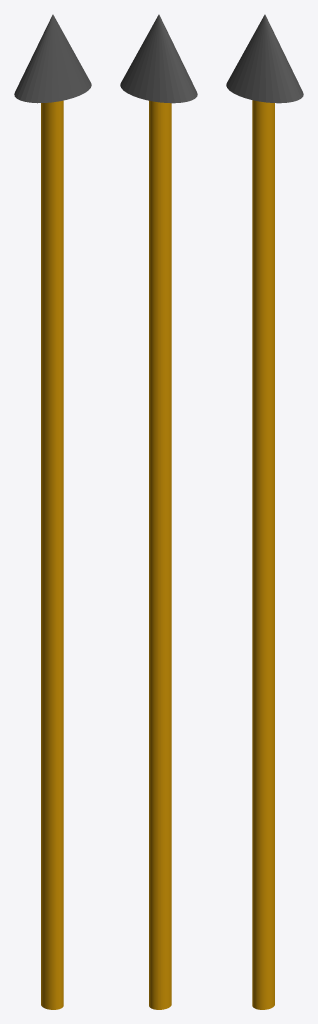
The model's file is GameJamSpear.fbx.
3 renders of one model, left to right at view 1: azimuth 30°, elevation 25°; view 2: azimuth 150°, elevation 25°; view 3: azimuth 330°, elevation 25°, orthographic.
Parts seen in each view (by area): view 1: Cylinder, Cone; view 2: Cylinder, Cone; view 3: Cylinder, Cone.
Part boxes in pixels (left/top/right/bottom): Cylinder: left=41, top=100, right=63, bottom=1009; Cone: left=14, top=14, right=91, bottom=103; Cylinder: left=149, top=100, right=171, bottom=1009; Cone: left=120, top=14, right=197, bottom=103; Cylinder: left=252, top=100, right=274, bottom=1009; Cone: left=226, top=14, right=303, bottom=103.
Size of the model in its own units: 58.51 by 764 by 38.49.
